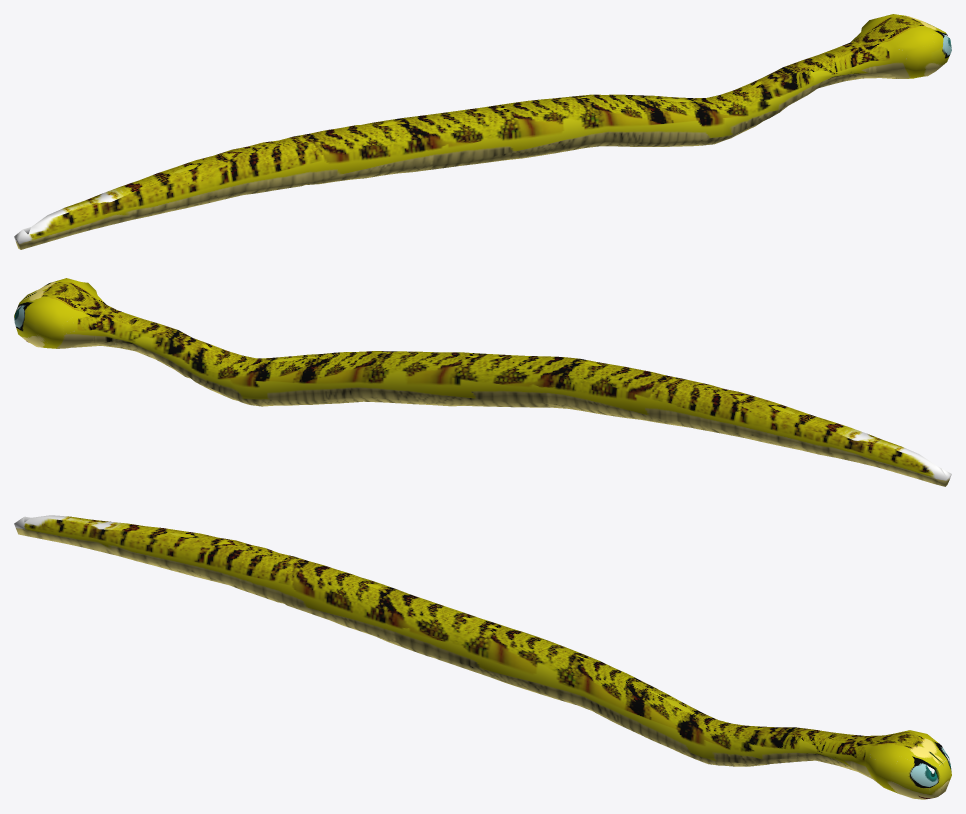
File: snake_aug_8.obj
3 renders of one model, top to bottom at view 1: azimuth 30°, elevation 25°; view 2: azimuth 150°, elevation 25°; view 3: azimuth 330°, elevation 25°, orthographic. The views are drawn at different scales.
Size of the model in its own units: 94.35 by 11.01 by 9.35.
Materials: 1 (1 with a texture image).
